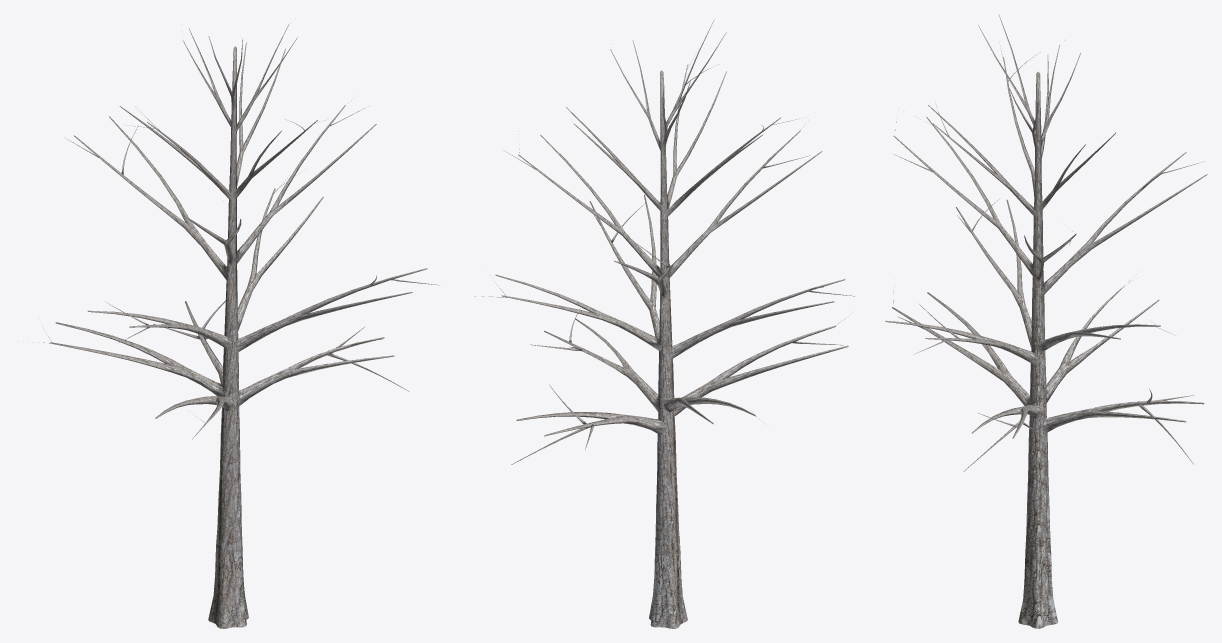
The model's file is deadTree.fbx.
The picture shows the model from 3 angles, left to right: view 1: azimuth 30°, elevation 25°; view 2: azimuth 150°, elevation 25°; view 3: azimuth 270°, elevation 25°; orthographic projection. The views are drawn at different scales.
Visible parts, largest first — view 1: Tree_0; view 2: Tree_0; view 3: Tree_0.
Part boxes in pixels (x1=…): Tree_0: x1=23, y1=23, x2=440, y2=628; Tree_0: x1=474, y1=19, x2=855, y2=628; Tree_0: x1=885, y1=14, x2=1207, y2=628.
Size of the model in its own units: 58.35 by 108 by 53.19.
1 material, 1 textured.
